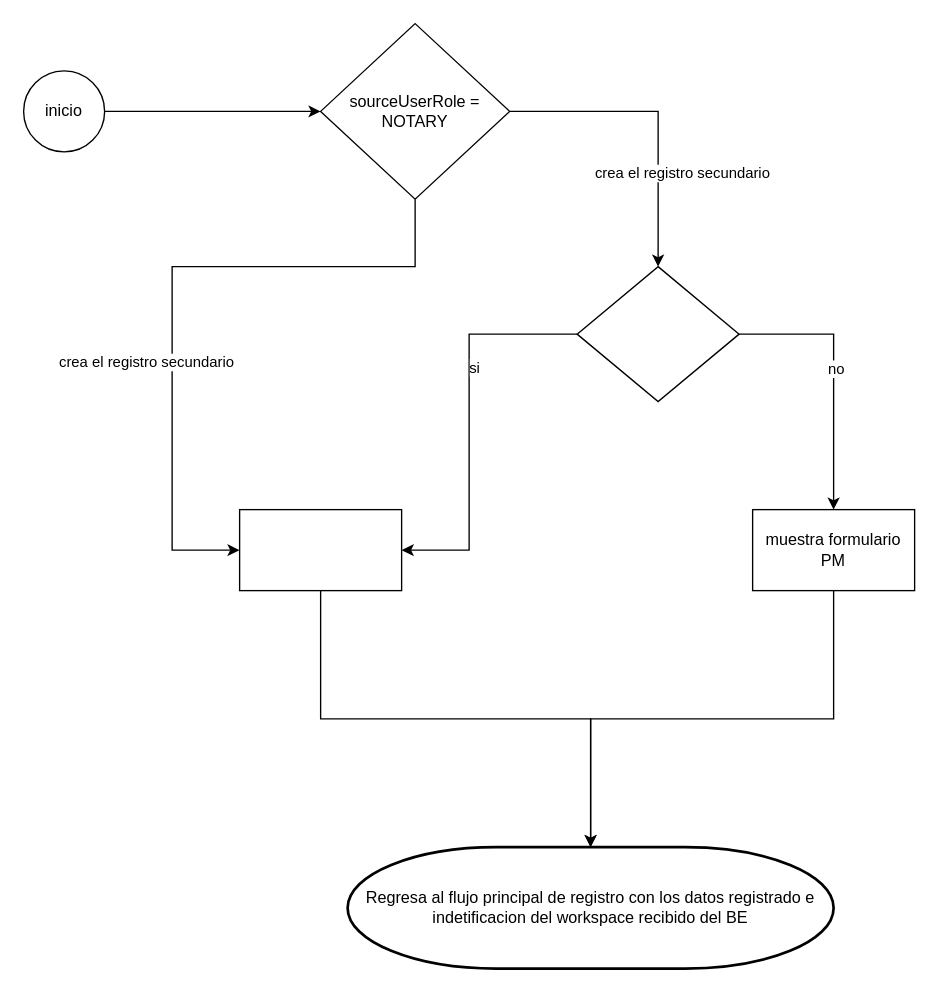
Image size: 938x994. Some labels were removed from this diagram. The centre of each missing label's shape, as x and y in pixels:
"muestra formulario PF" belongs at (320,549).
"¿registra persona fisica?" belongs at (657,333).
